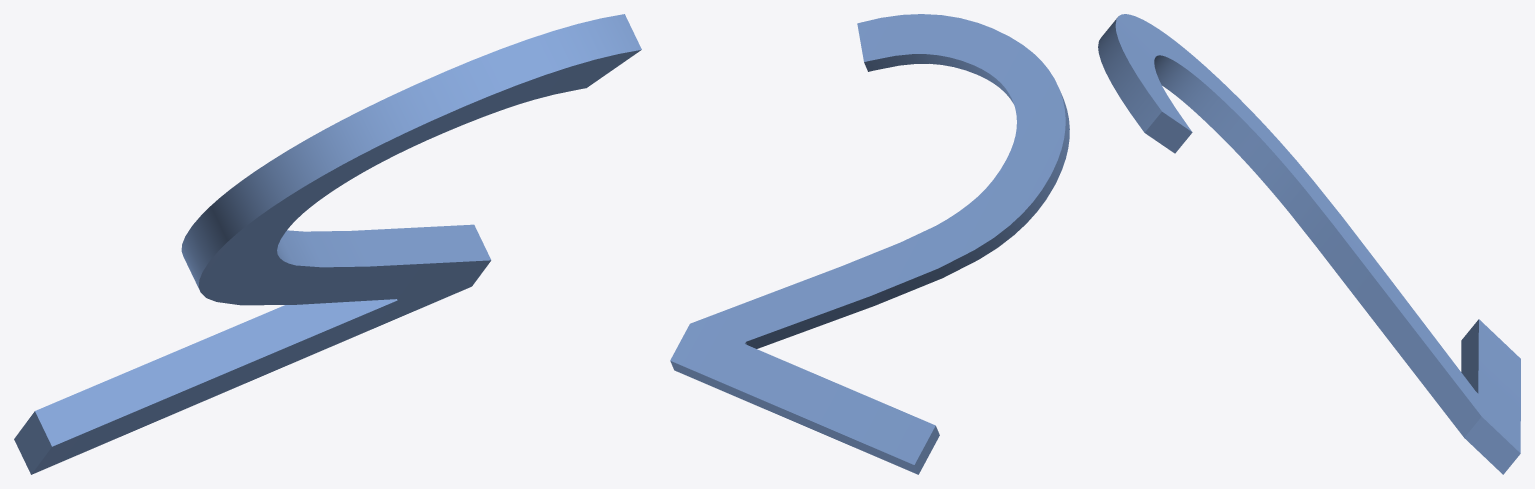
The model's file is New_Number_2.gltf.
The picture shows the model from 3 angles, left to right: view 1: azimuth 30°, elevation 25°; view 2: azimuth 150°, elevation 25°; view 3: azimuth 270°, elevation 25°; orthographic projection. The views are drawn at different scales.
Parts seen in each view (by area): view 1: Part 362; view 2: Part 362; view 3: Part 362.
Boxes of the visible parts, <box> form: Part 362: <box>14,14,641,474</box>; Part 362: <box>670,14,1069,474</box>; Part 362: <box>1098,14,1520,474</box>.
Bounding box in the file's own units: 0.00356 × 0.00408 × 0.00383.
